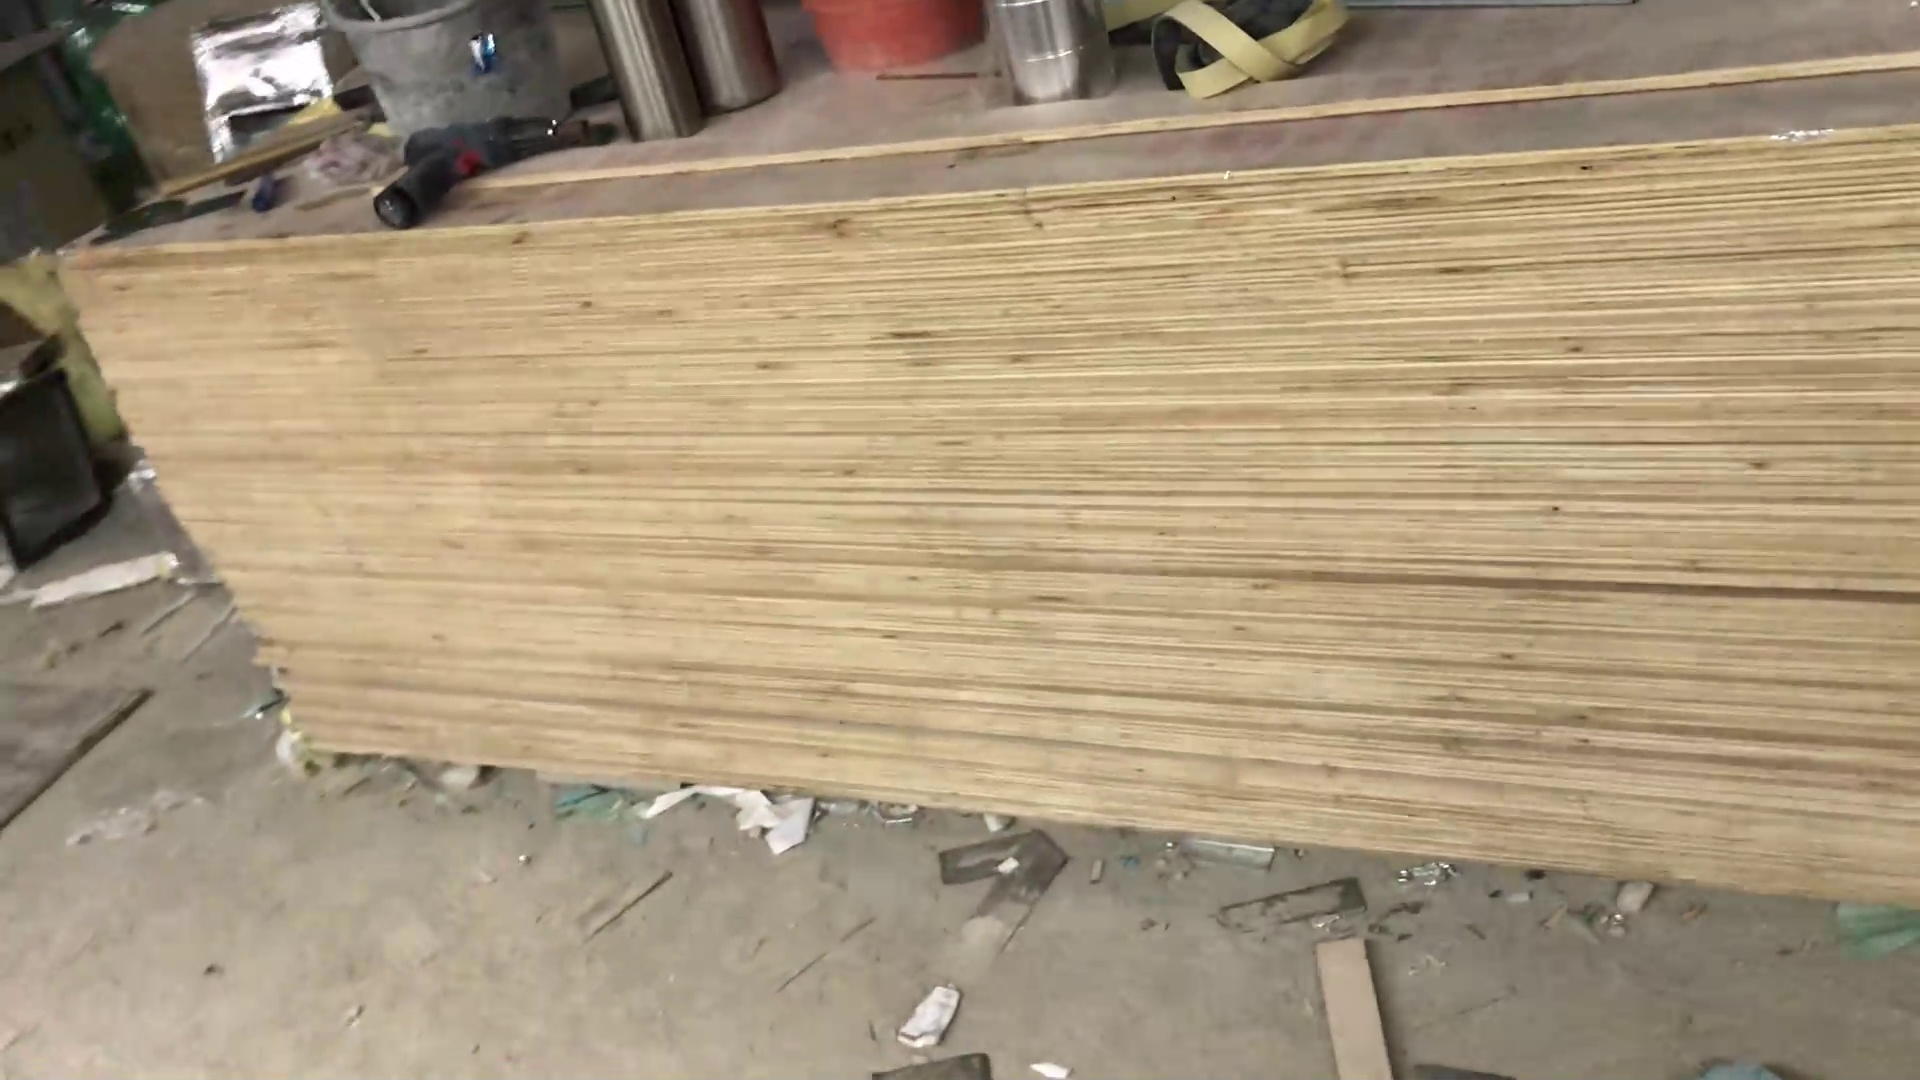board: (53, 1, 1907, 934)
